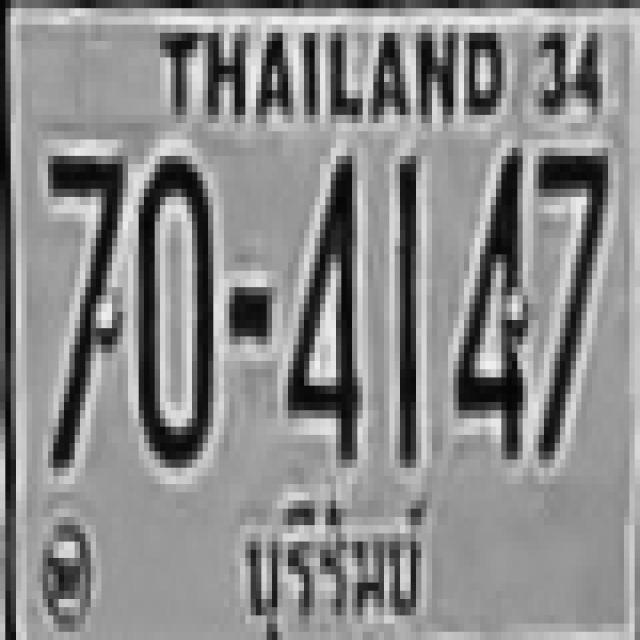0: (133, 148, 208, 460)
1: (392, 152, 419, 464), (392, 156, 419, 443)
4: (283, 148, 357, 460), (451, 144, 525, 456)
7: (45, 148, 120, 460), (536, 152, 605, 455), (45, 148, 120, 353), (536, 152, 605, 349)
Buriram: (234, 487, 432, 640)
